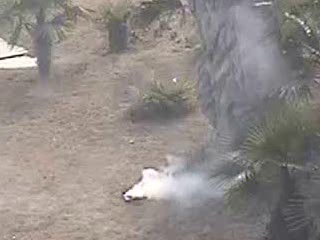smoke: (123, 156, 230, 204)
